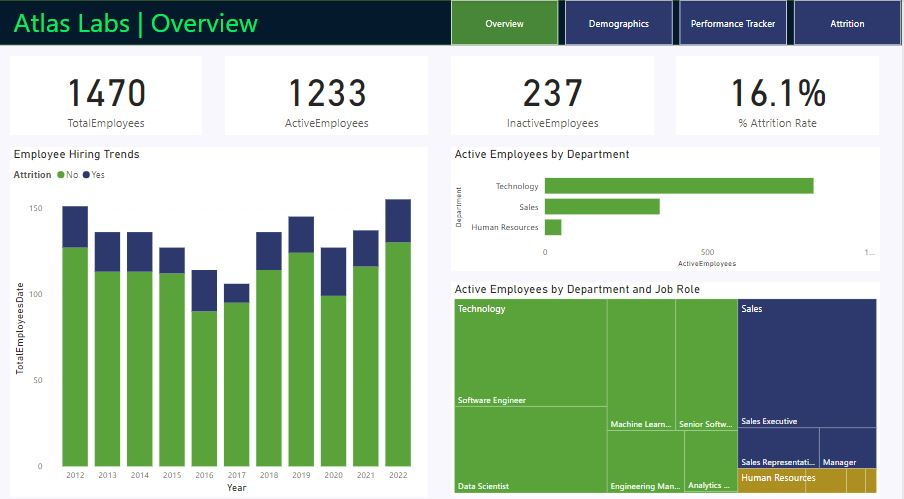

This screenshot's page, from the dashboard's own definition file:
{"tool":"powerbi","page":{"name":"Overview","canvas":[1280,720],"ordinal":0},"visuals":[{"type":"card","fields":{"Values":["_Measures.TotalEmployees"]},"box":[16,80,272,112],"z":0},{"type":"card","fields":{"Values":["_Measures.ActiveEmployees"]},"box":[320,80,288,112],"z":1000},{"type":"card","fields":{"Values":["_Measures.InactiveEmployees"]},"box":[640,80,288,112],"z":2000},{"type":"card","fields":{"Values":["_Measures.% Attrition Rate"]},"box":[960,80,288,112],"z":3000},{"type":"columnChart","title":"Employee Hiring Trends","fields":{"Category":["DimDate.Date.Variation.Date Hierarchy.Year","DimDate.Date.Variation.Date Hierarchy.Quarter","DimDate.Date.Variation.Date Hierarchy.Month","DimDate.Date.Variation.Date Hierarchy.Day"],"Y":["_Measures.TotalEmployeesDate"],"Series":["DimEmployee.Attrition"]},"box":[16,208,592,496],"z":4000},{"type":"clusteredBarChart","title":"Active Employees by Department","fields":{"Category":["DimEmployee.Department"],"Y":["_Measures.ActiveEmployees"]},"box":[640,208,608,176],"z":5000},{"type":"treemap","title":"Active Employees by Department and Job Role","fields":{"Values":["_Measures.ActiveEmployees"],"Group":["DimEmployee.Department"],"Details":["DimEmployee.JobRole"]},"box":[640,400,608,304],"z":6000},{"type":"shape","box":[0,0,1280,64],"z":7000},{"type":"textbox","box":[16,0,448,64],"z":8000},{"type":"pageNavigator","box":[640,0,640,64],"z":9000}]}

Visuals, with their boxes in screenshot pixels (x1, y1, x2, y2), scaled from the page's 1280x720 canvas onto the 904x499 screenshot:
card - _Measures.TotalEmployees: box(11, 55, 203, 133)
card - _Measures.ActiveEmployees: box(226, 55, 429, 133)
card - _Measures.InactiveEmployees: box(452, 55, 655, 133)
card - _Measures.% Attrition Rate: box(678, 55, 881, 133)
"Employee Hiring Trends" columnChart: box(11, 144, 429, 488)
"Active Employees by Department" clusteredBarChart: box(452, 144, 881, 266)
"Active Employees by Department and Job Role" treemap: box(452, 277, 881, 488)
shape: box(0, 0, 903, 44)
textbox: box(11, 0, 328, 44)
pageNavigator: box(452, 0, 903, 44)
